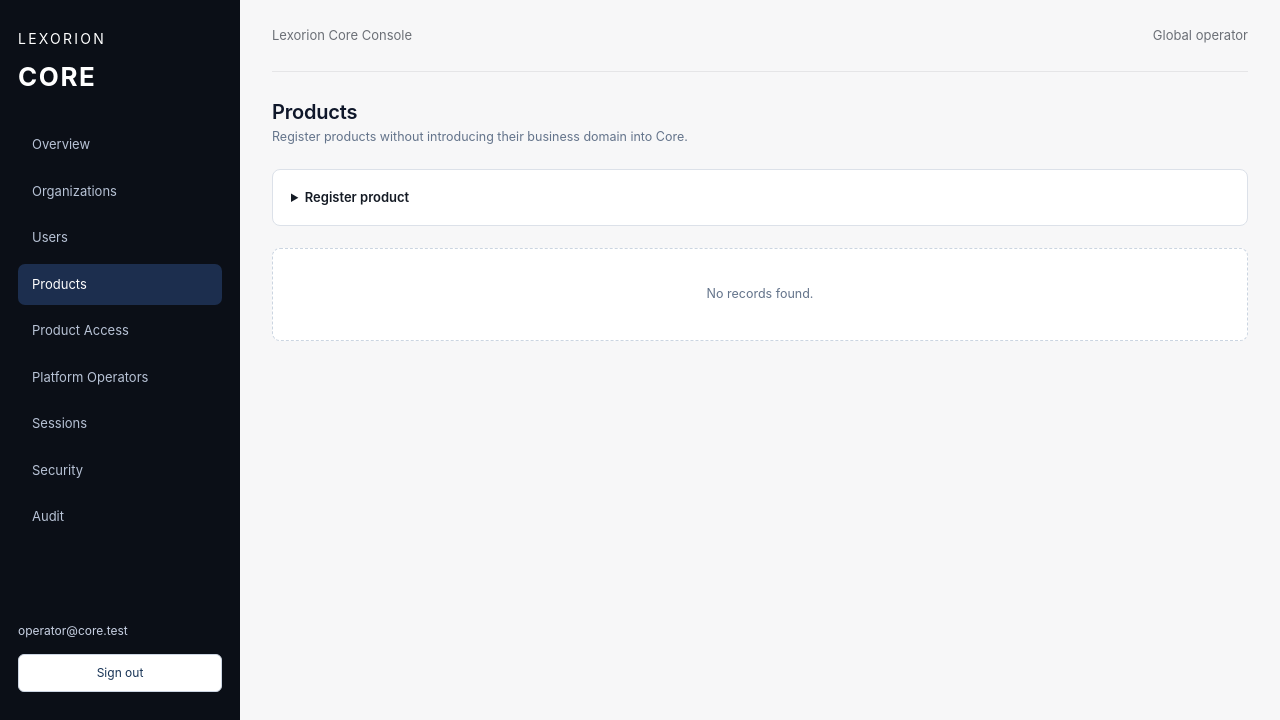
Test: Core Console › registers a product using the generic API and reloads persisted rows
Click the heading "Register product" at point(357, 197), box [305,189,409,205]
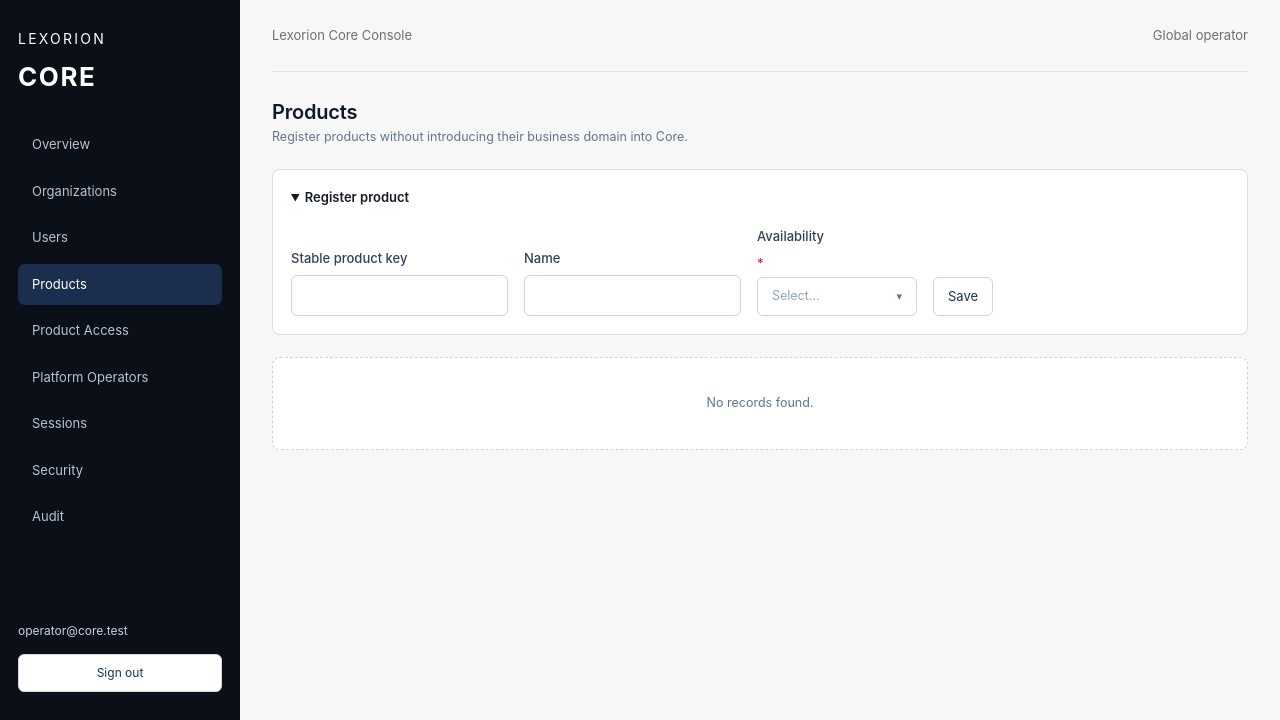
Type "lexorion-travel" into the field labelled "Stable product key" at point(400, 296), box [291,275,508,316]
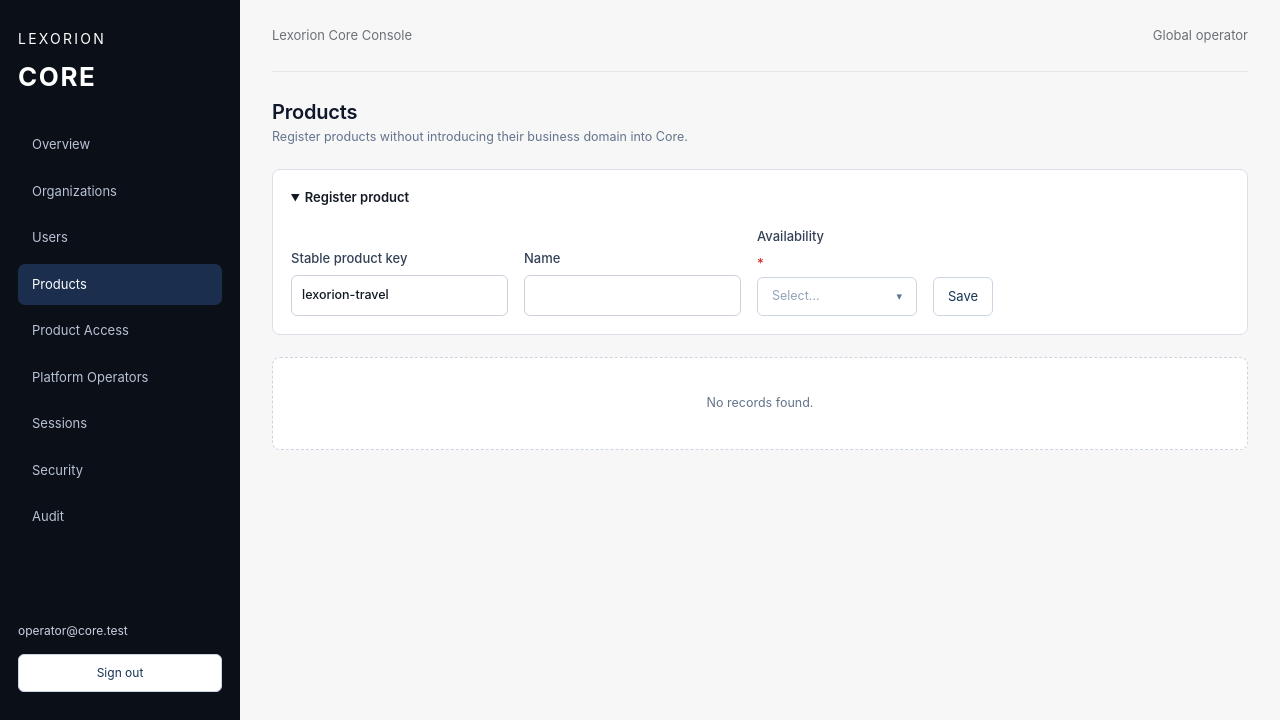
Type "Lexorion Travel" into the field labelled "Name" at point(632, 296), box [524,275,741,316]
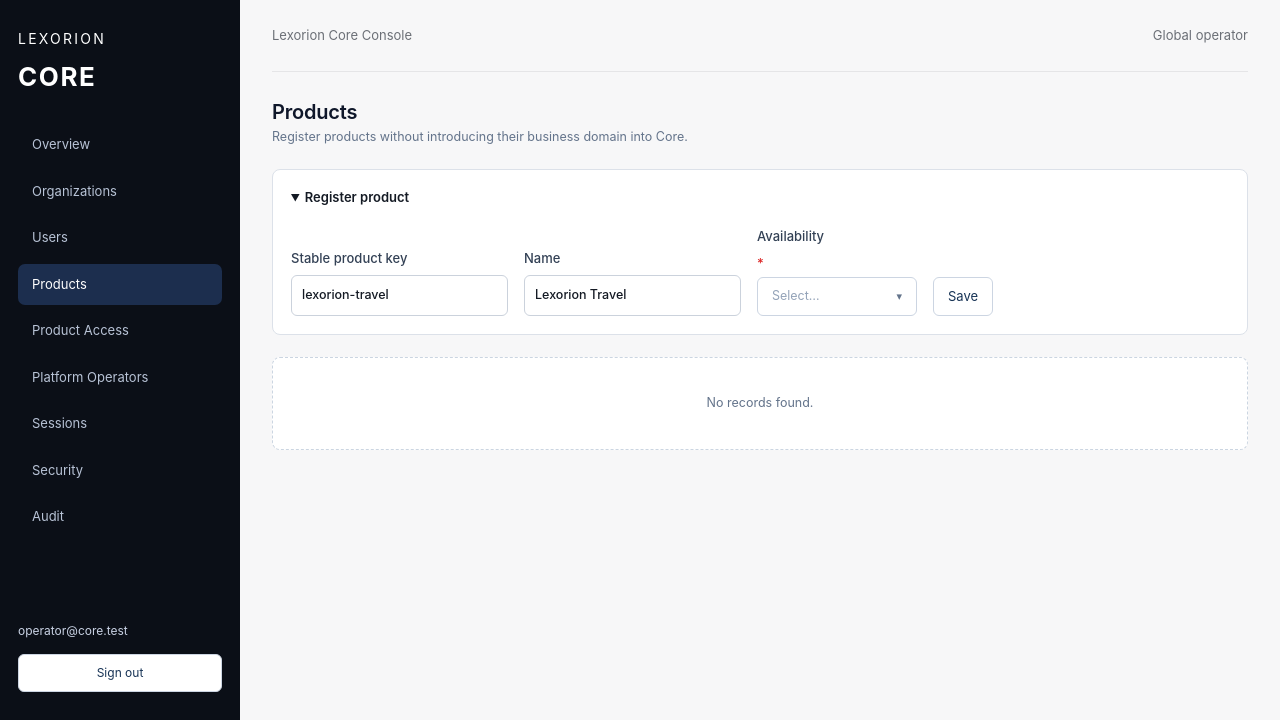
Click the dropdown named "Availability" at point(837, 297), box [757,277,917,316]
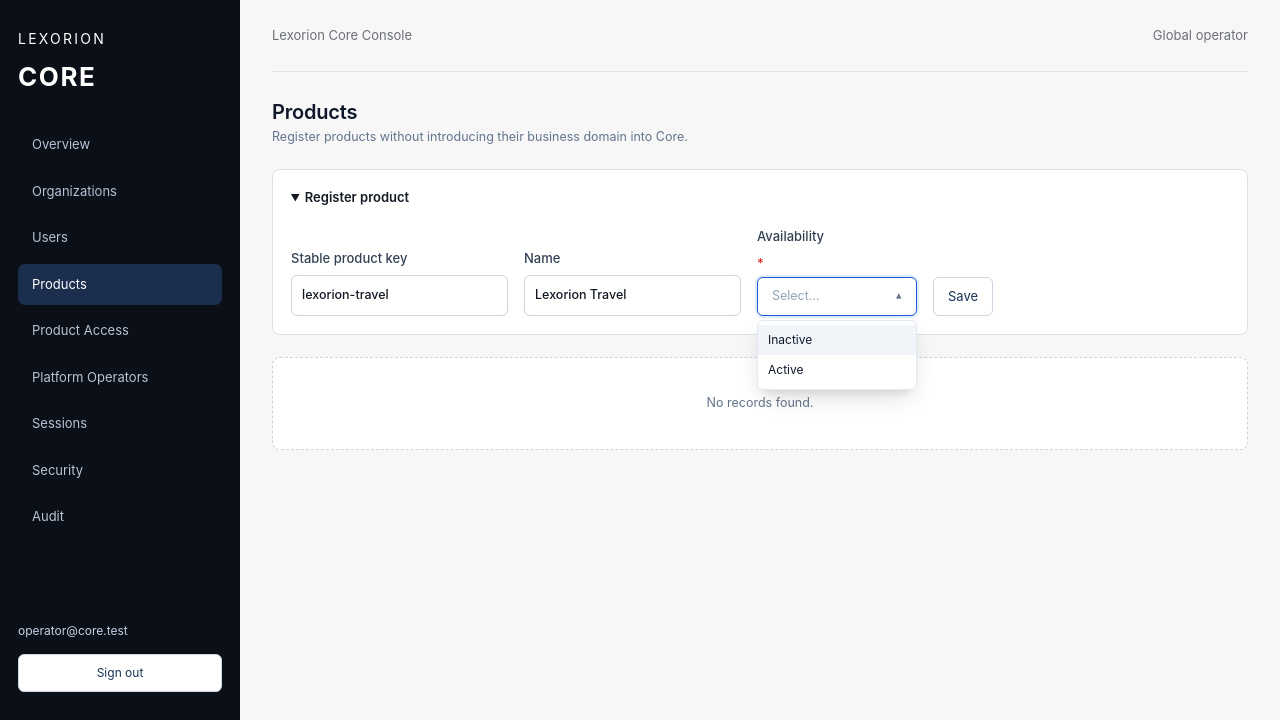
Click the option "Active" at point(786, 370), box [768,362,804,377]
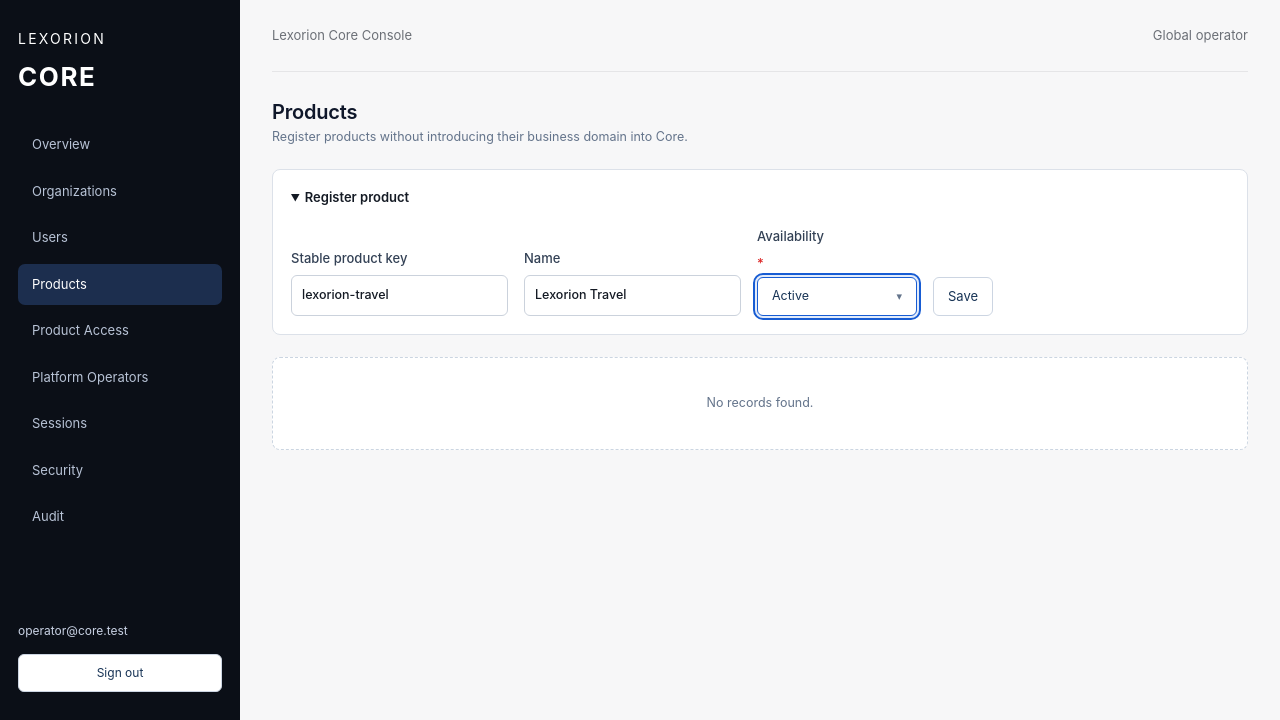
Click the button "Save" at point(963, 296), box [933,276,993,316]
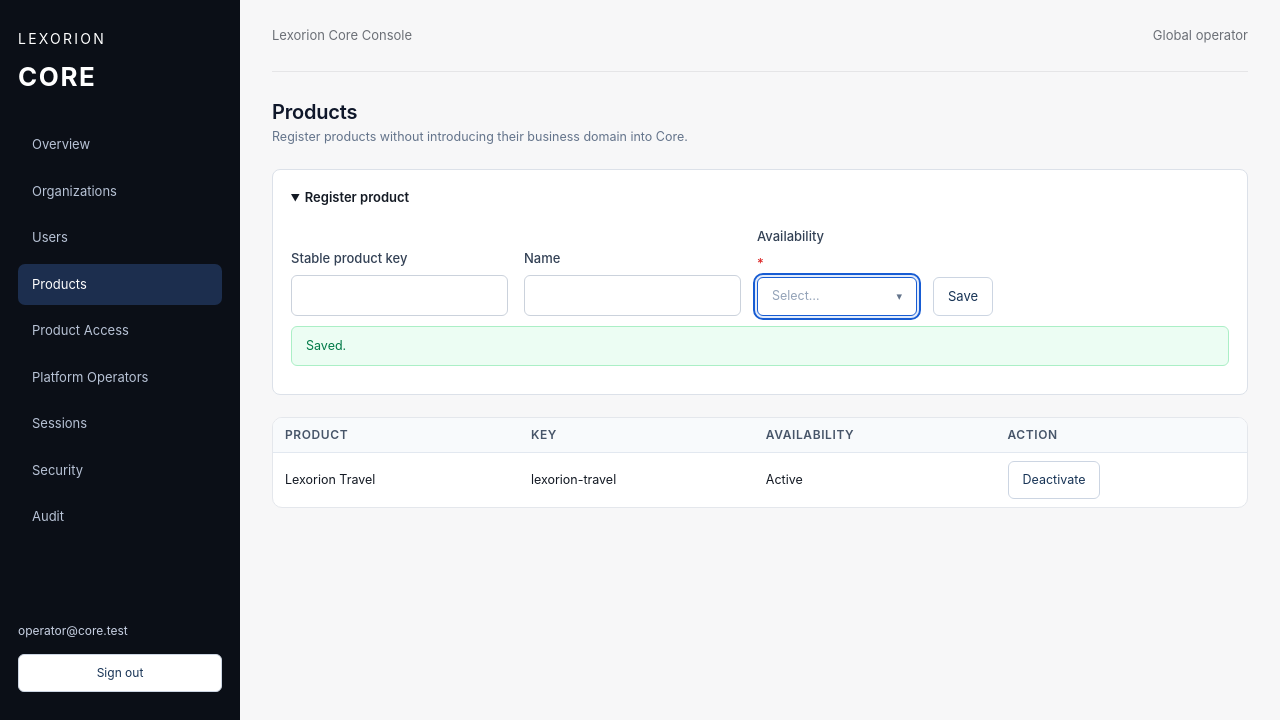
Now the text "Lexorion Travel" is shown, box [273,452,519,507]
